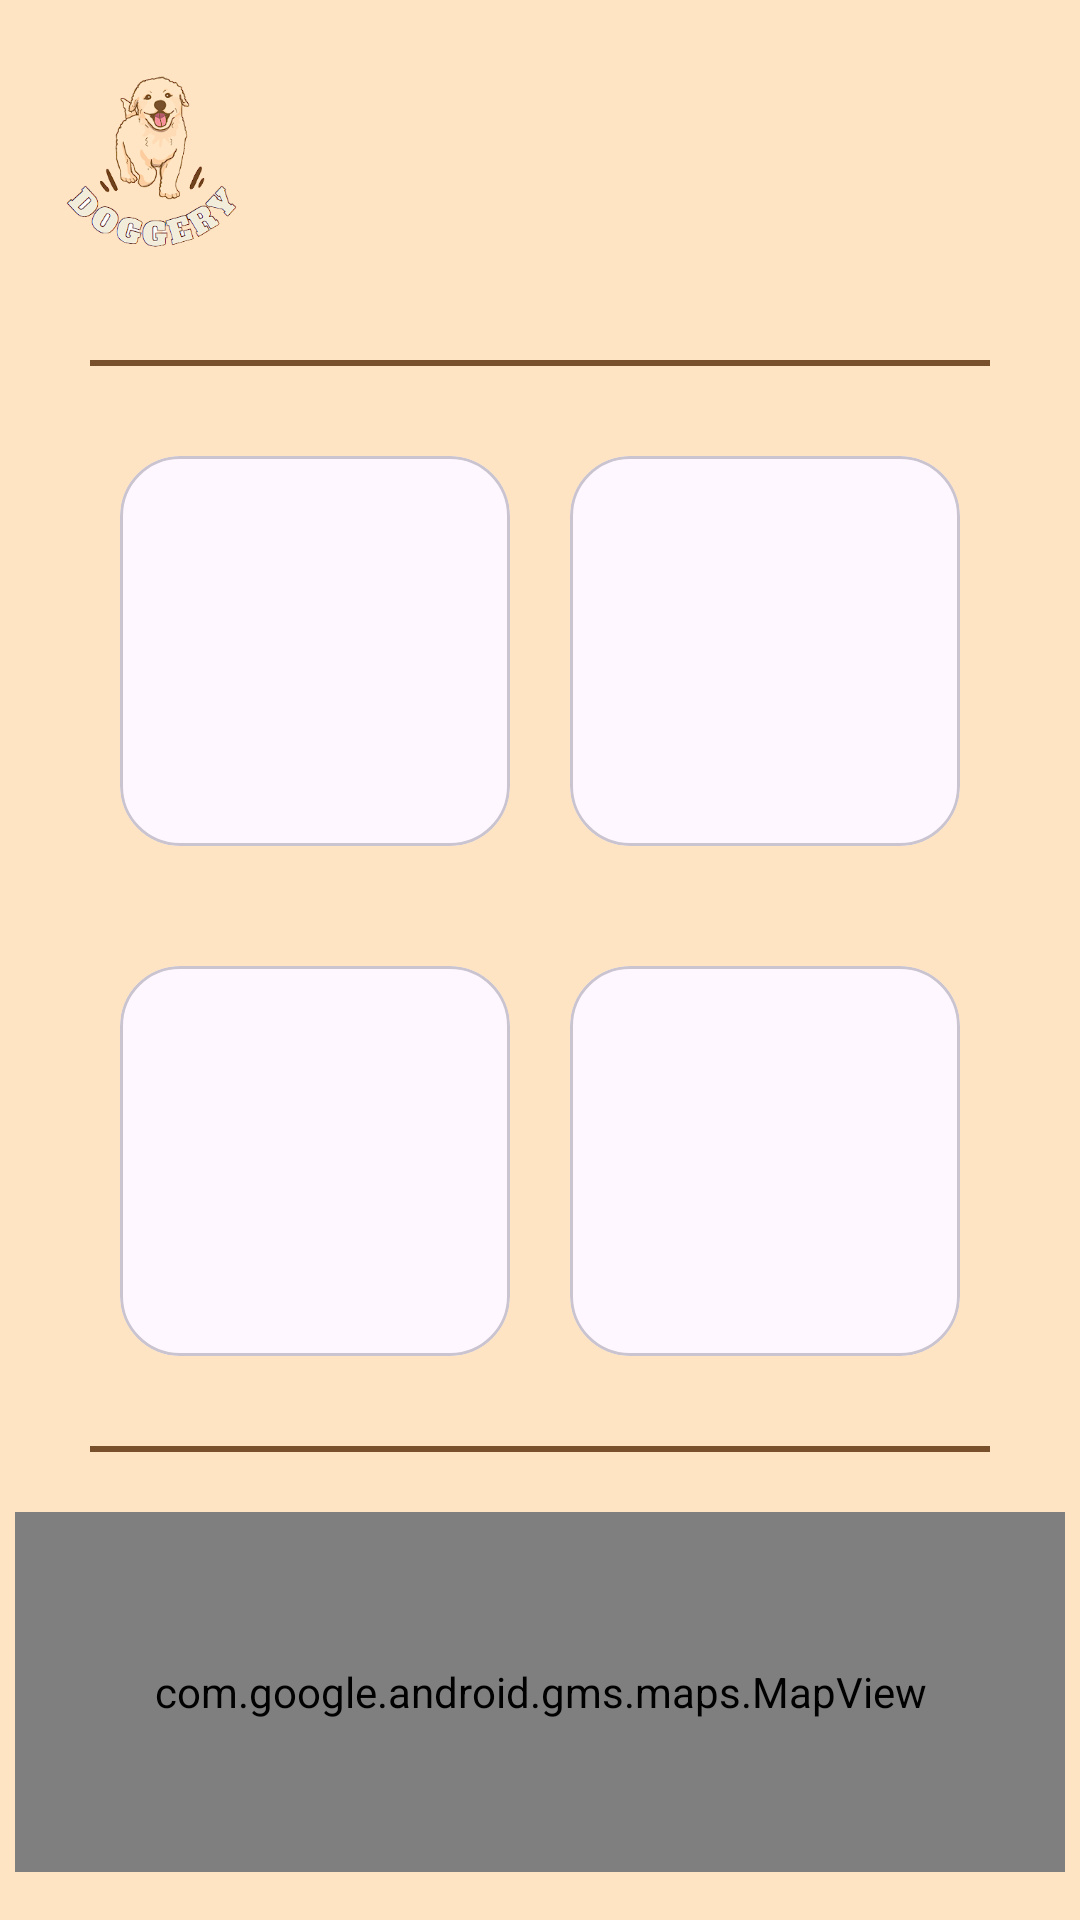

Icon bounding boxes for this 1080×1920 phone screenshot, format bbox(x1, y1, x2, y2):
dog: bbox(67, 76, 236, 247)
